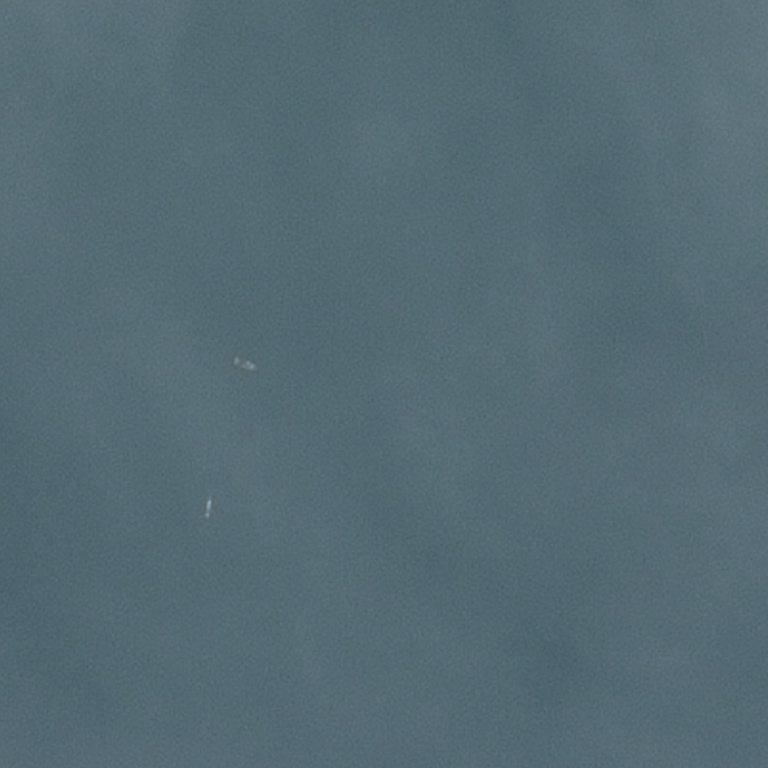ship: (221, 353, 253, 375), (207, 498, 209, 520), (254, 367, 257, 370), (5, 356, 7, 358), (208, 517, 210, 519), (209, 499, 210, 500), (234, 361, 234, 362), (52, 517, 52, 518)
